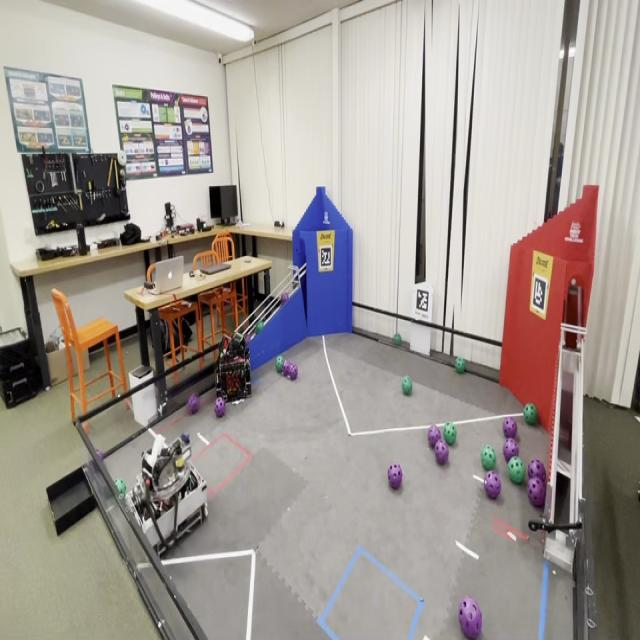artifact_green: (508, 457, 525, 484), (481, 445, 496, 470), (443, 422, 456, 445), (524, 403, 537, 425), (114, 479, 126, 497), (402, 376, 412, 395), (455, 357, 465, 374), (255, 320, 264, 334), (276, 356, 283, 373), (394, 334, 401, 346)
artifact_purple: (459, 597, 481, 639), (528, 478, 545, 508), (484, 471, 501, 500), (387, 463, 403, 489), (528, 459, 545, 483), (434, 439, 449, 464), (504, 439, 519, 462), (503, 416, 517, 439), (428, 425, 441, 447), (187, 393, 199, 414), (214, 398, 225, 418), (282, 360, 291, 376), (289, 363, 297, 380), (281, 292, 289, 304), (96, 448, 103, 461), (245, 334, 251, 347)
